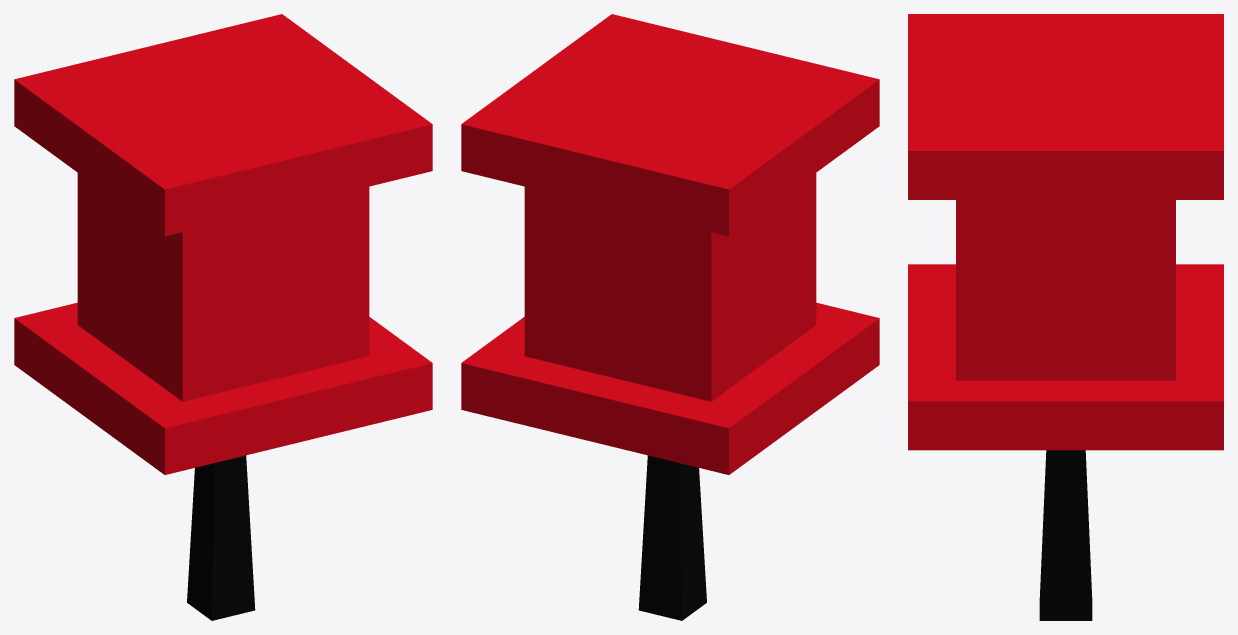
Rendered from николона.fbx.
3 views of the same model, side by side, from view 1: azimuth 30°, elevation 25°; view 2: azimuth 150°, elevation 25°; view 3: azimuth 270°, elevation 25° (orthographic). The views are drawn at different scales.
Visible parts, largest first — view 1: Cube.001, Cube.003, Cube.002, Cube; view 2: Cube.001, Cube.003, Cube.002, Cube; view 3: Cube.001, Cube.003, Cube.002, Cube.
Boxes of the visible parts, x1,y1,x2,y2 form: Cube.001: (14,14,432,236); Cube.003: (77,173,369,401); Cube.002: (14,302,432,474); Cube: (187,455,255,620); Cube.001: (461,14,879,236); Cube.003: (524,173,816,401); Cube.002: (461,302,879,474); Cube: (638,455,706,620); Cube.001: (908,14,1223,199); Cube.003: (956,200,1175,380); Cube.002: (908,264,1223,450); Cube: (1039,450,1092,620).
Size of the model in its own units: 224 by 403 by 218.
